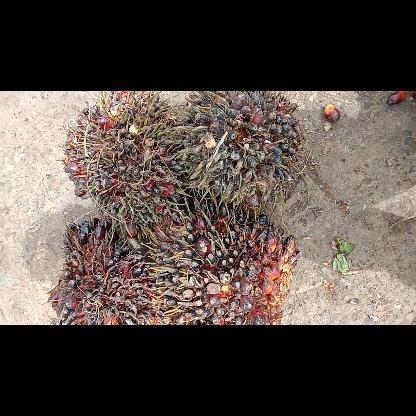TBS abnormal: (158, 208, 300, 324), (64, 91, 184, 221), (177, 92, 309, 206), (45, 221, 161, 321)
